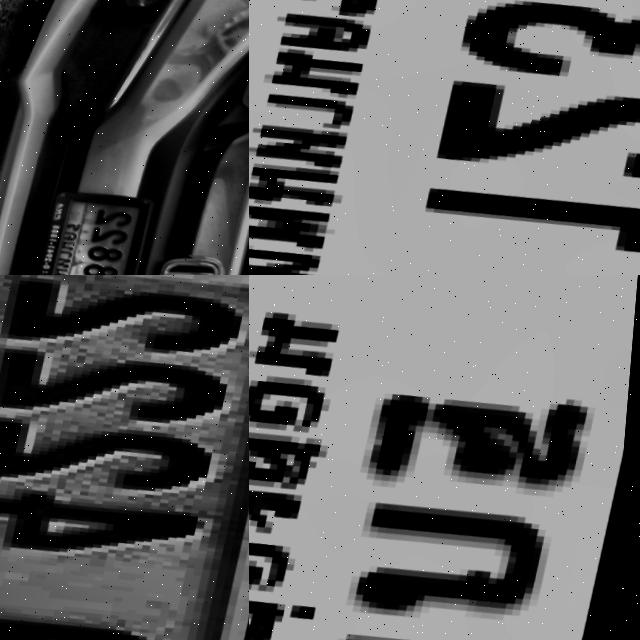license-plate: (249, 275, 640, 640), (249, 0, 640, 275), (0, 275, 249, 640), (30, 189, 159, 275)
